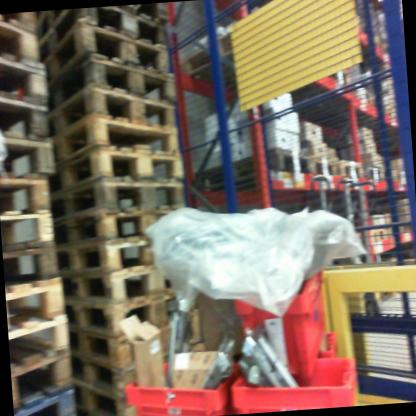pallet: (179, 13, 296, 125), (41, 167, 191, 236), (64, 316, 227, 378), (45, 107, 185, 175), (37, 15, 168, 86), (46, 49, 181, 117), (61, 340, 211, 398), (48, 79, 181, 143), (53, 132, 187, 195), (35, 5, 173, 63), (55, 254, 192, 310), (51, 193, 180, 252), (62, 287, 201, 341), (192, 139, 313, 191), (52, 235, 184, 279), (11, 352, 85, 413), (6, 242, 64, 315), (6, 276, 74, 337), (8, 320, 70, 383), (0, 51, 59, 112), (0, 90, 61, 145), (0, 131, 61, 184), (0, 12, 52, 74), (2, 210, 59, 259), (0, 172, 57, 215), (73, 383, 136, 416), (303, 131, 341, 183), (15, 386, 78, 416), (0, 11, 52, 39), (361, 160, 392, 188), (335, 154, 365, 181), (373, 223, 390, 251)
pallet_truck: (331, 150, 376, 322), (349, 175, 394, 309), (293, 163, 340, 272)
small_load_carrier: (228, 255, 342, 357), (229, 352, 356, 415), (123, 364, 241, 416)
